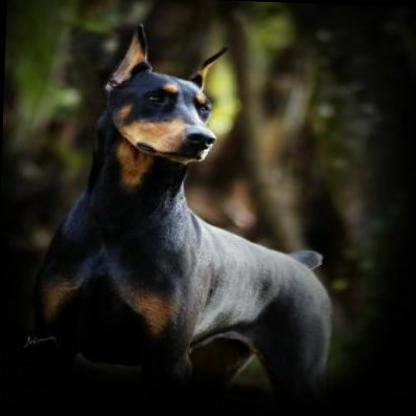Doberman: (13, 5, 356, 413)
